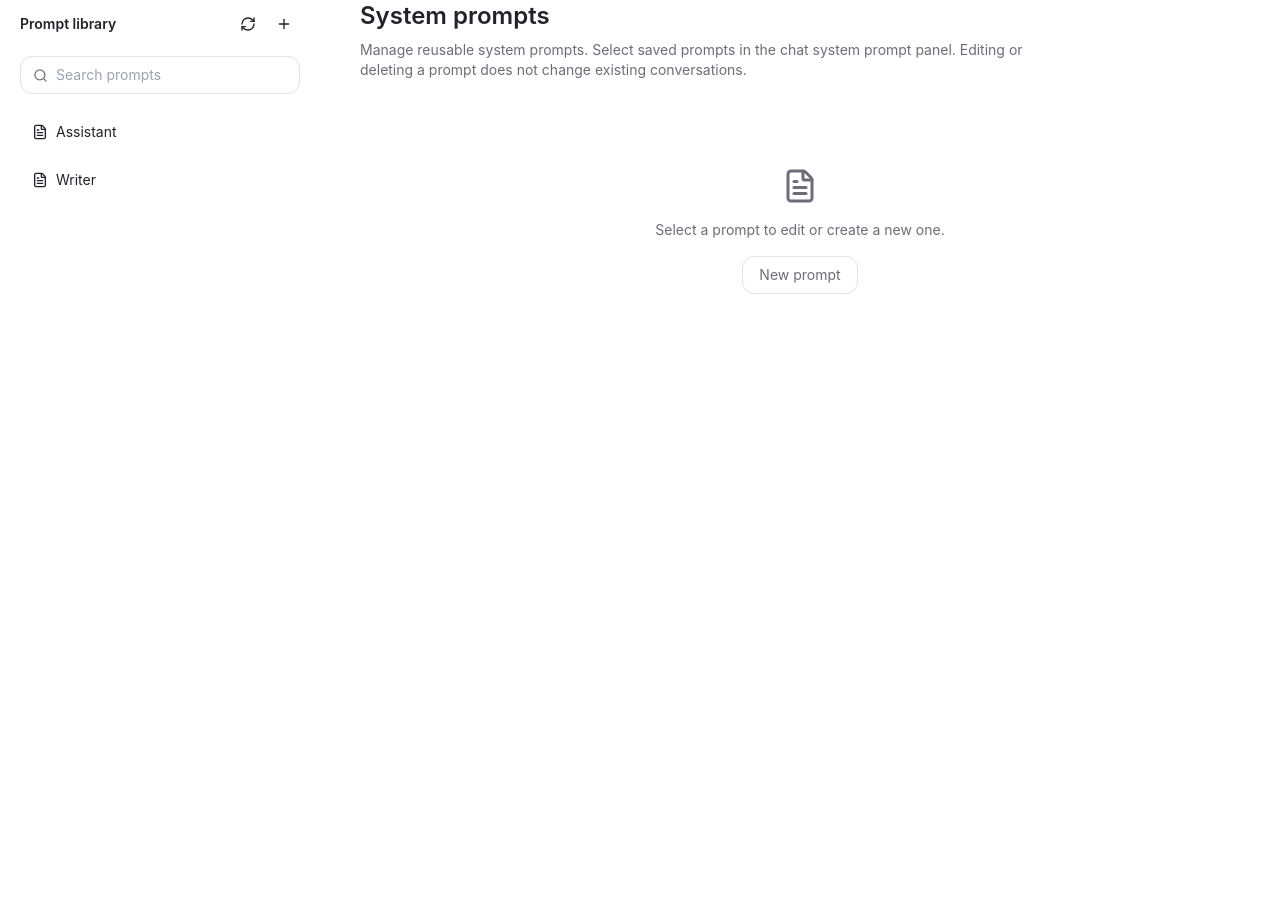
Test: system prompt management › deletes only after confirmation
Click the button "Assistant" at {"x": 86, "y": 132}, box [20,110,300,154]
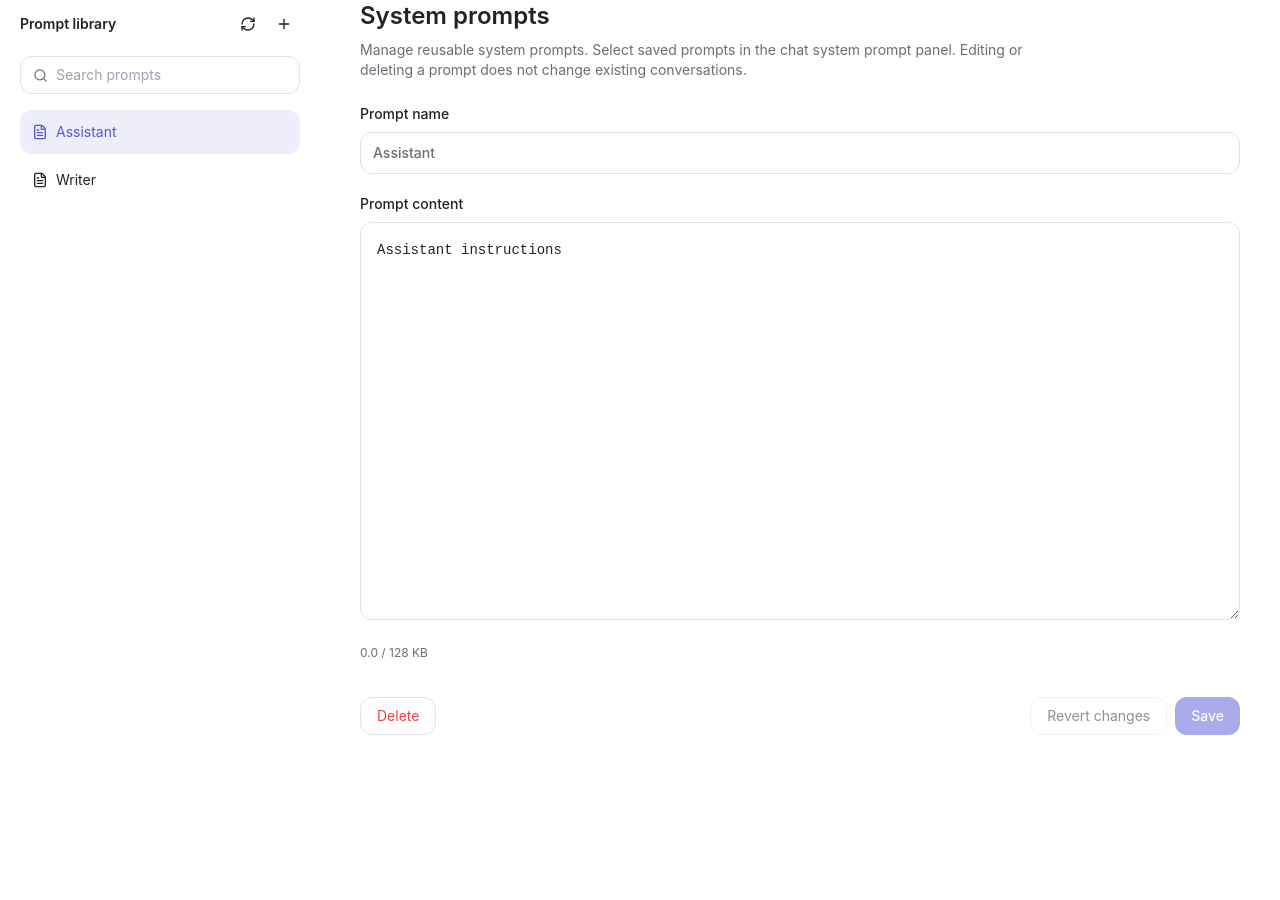
Check: the text box showing "Assistant instructions" is shown, box [360,222,1240,620]
Click the button "Delete" at {"x": 398, "y": 716}, box [360,697,436,735]
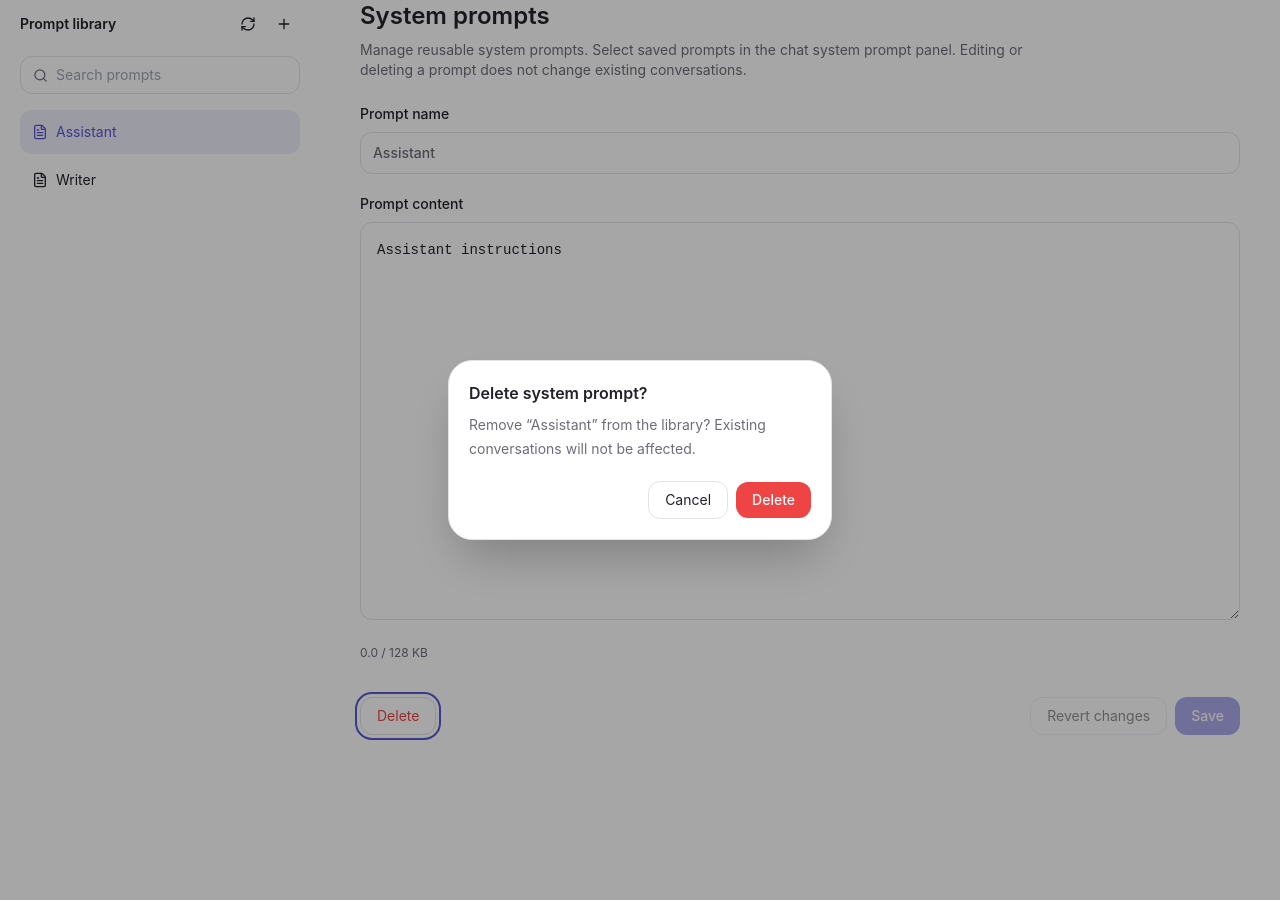
Check: the dialog shows "Existing conversations will not be affected", box [469,416,766,457]
Click the button "Delete" at {"x": 774, "y": 500}, box [736,482,811,518]
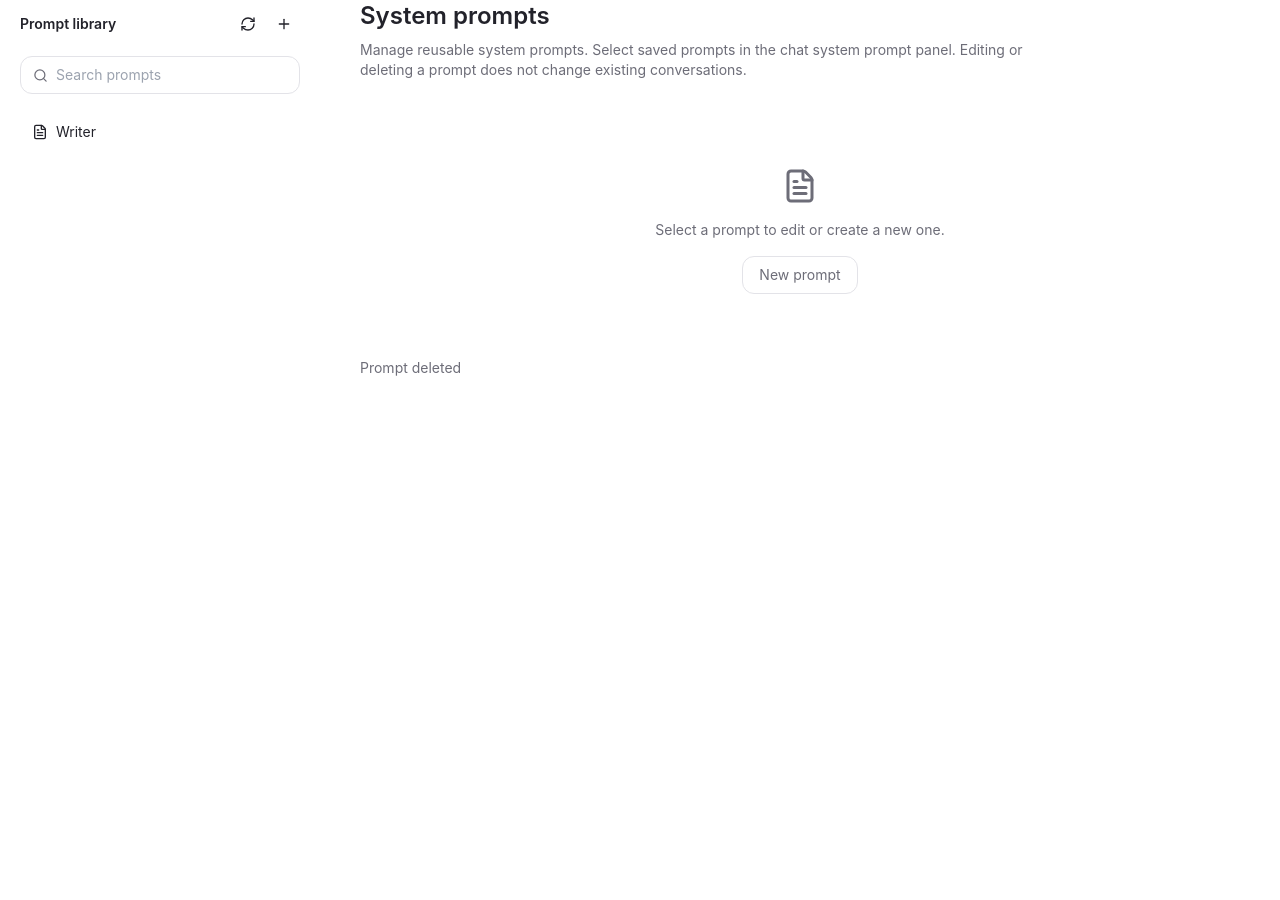
Check: the button "Assistant" is gone
Check: the message reads "Prompt deleted", box [360,359,461,376]
